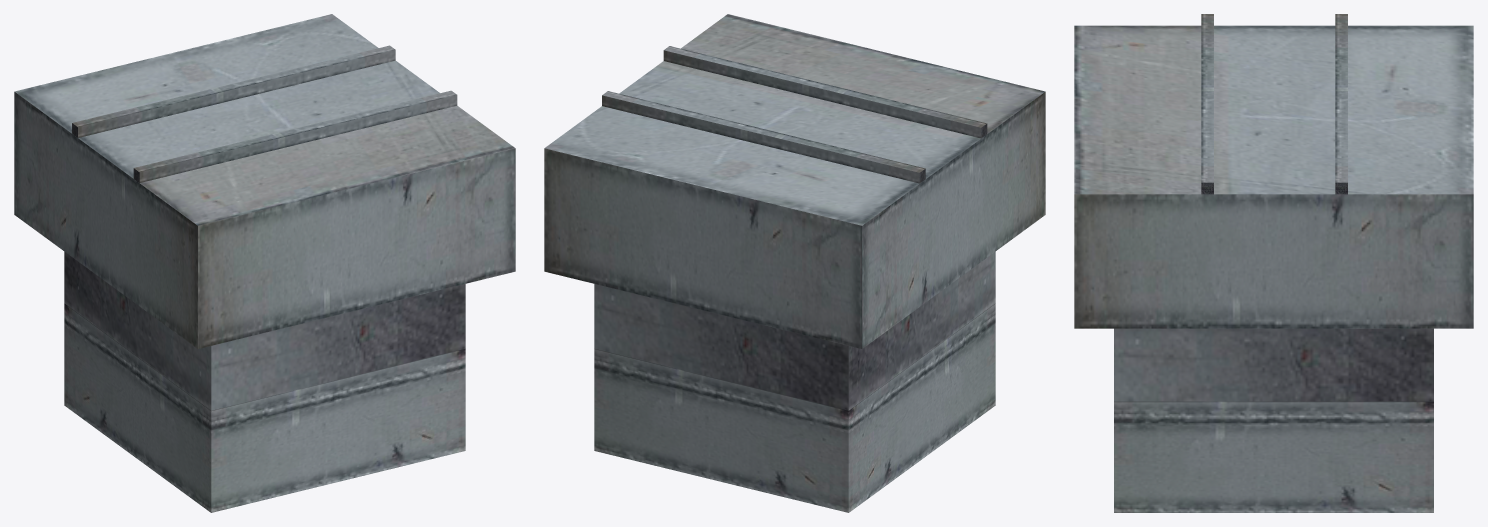
File: Airvent3.fbx
3 renders of one model, left to right at view 1: azimuth 30°, elevation 25°; view 2: azimuth 150°, elevation 25°; view 3: azimuth 270°, elevation 25°, orthographic. The views are drawn at different scales.
Visible parts, largest first — view 1: Airvent3; view 2: Airvent3; view 3: Airvent3.
Part boxes in pixels (x1=…): Airvent3: x1=14, y1=14, x2=515, y2=512; Airvent3: x1=544, y1=14, x2=1045, y2=512; Airvent3: x1=1074, y1=14, x2=1473, y2=512.
Size of the model in its own units: 88.77 by 85.13 by 88.77.
